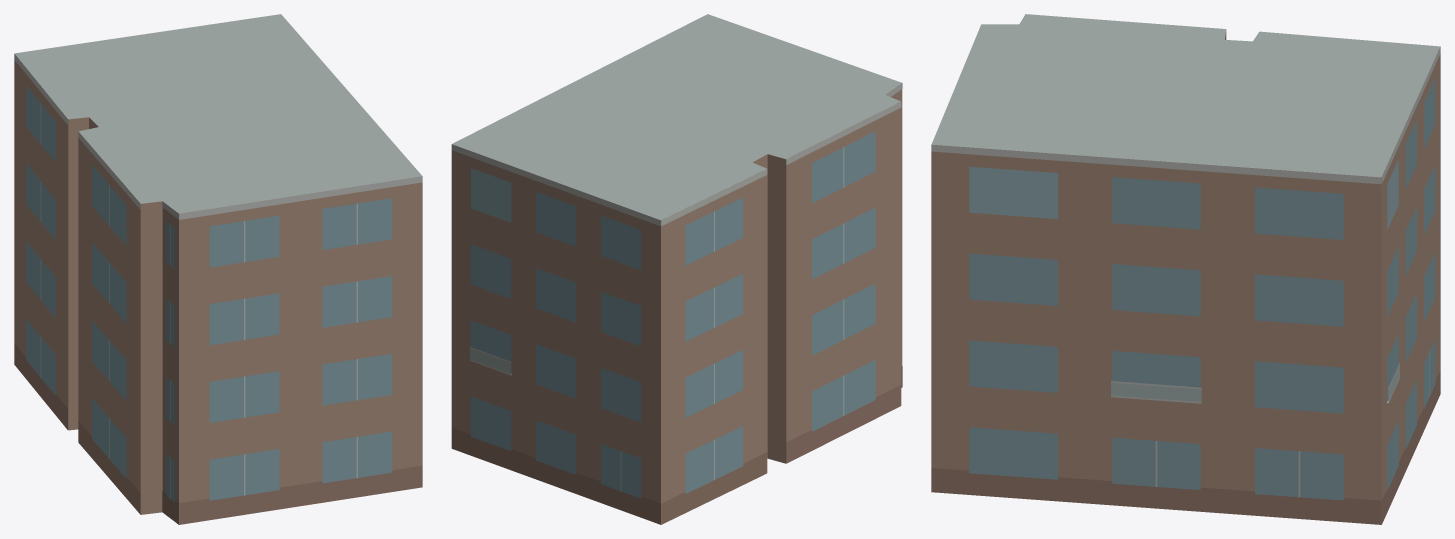
File: survey-upis-32675571.glb
The picture shows the model from 3 angles, left to right: view 1: azimuth 30°, elevation 25°; view 2: azimuth 150°, elevation 25°; view 3: azimuth 270°, elevation 25°; orthographic projection. The views are drawn at different scales.
Parts seen in each view (by area): view 1: survey-upis-32675571.tmp; view 2: survey-upis-32675571.tmp; view 3: survey-upis-32675571.tmp.
Boxes of the visible parts, x1=… form: survey-upis-32675571.tmp: x1=14, y1=14, x2=422, y2=524; survey-upis-32675571.tmp: x1=451, y1=14, x2=902, y2=524; survey-upis-32675571.tmp: x1=931, y1=14, x2=1440, y2=524.
Size of the model in its own units: 12.47 by 12.35 by 16.42.
